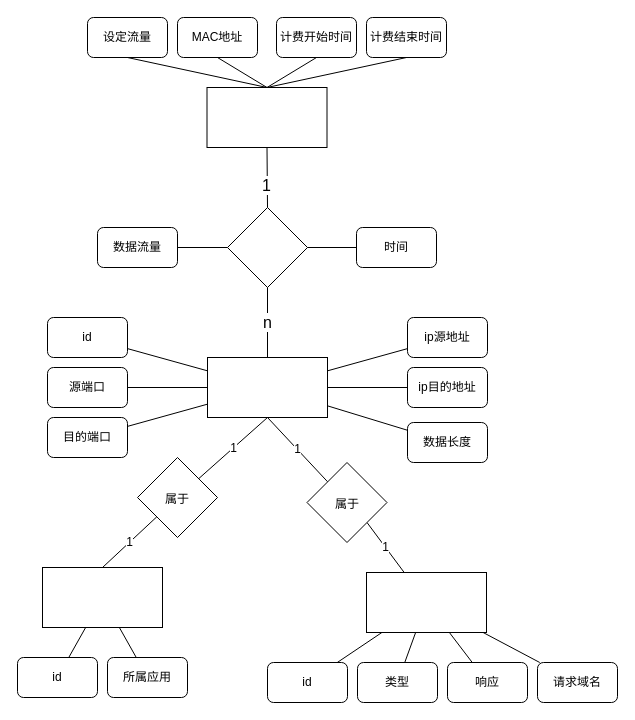
Some shapes in this 635 by 720 pixel diagram are drawn without their labels. The centre of each missing label's shape, as x and y in pixels:
"DNS请求协议" goes at [426,602].
"TCP/UDP协议" goes at [102,597].
"产生" goes at [267,247].
"客户端" goes at [266,117].
"网络数据包" goes at [267,387].
